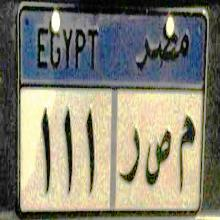1: (60, 97, 76, 200), (84, 102, 98, 196), (40, 103, 53, 197)
meem: (176, 109, 195, 201)
raa: (118, 115, 141, 192)
saad: (144, 124, 172, 191)
